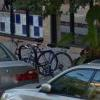Bicycle: (14, 34, 73, 74)
